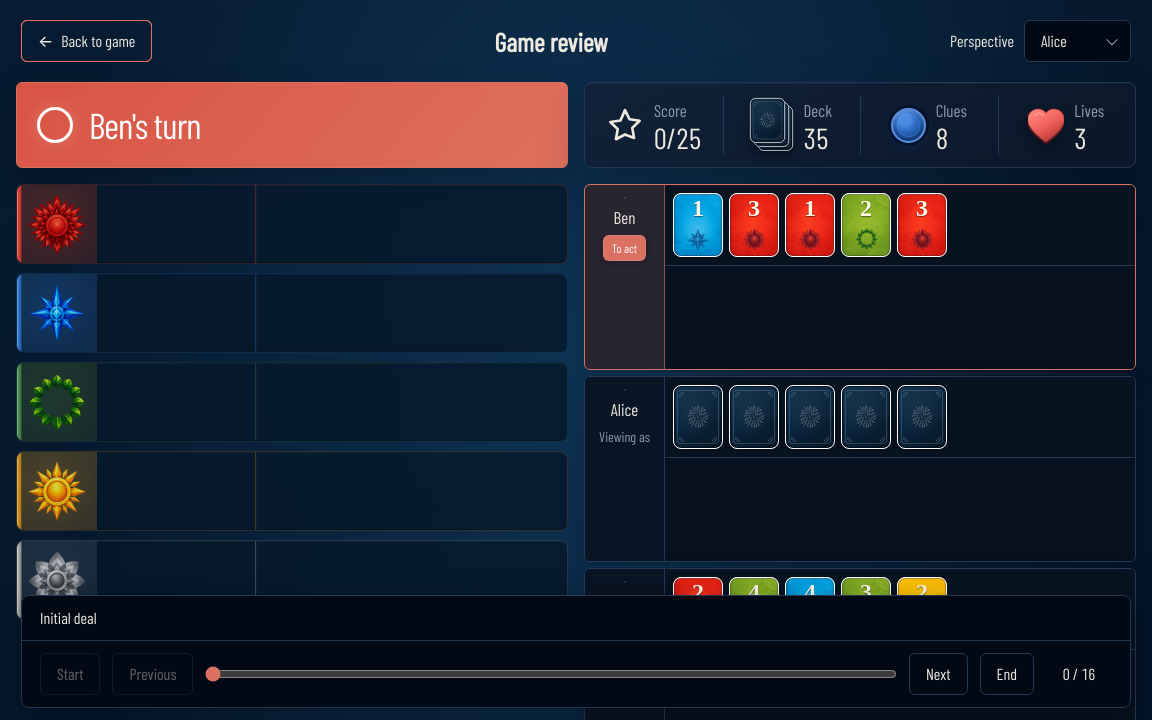
Test case: HanabiReview › adds clue knowledge at its move and removes it when rewinding
Click the button "Next". click: (938, 674)
box: [909,653,968,695]
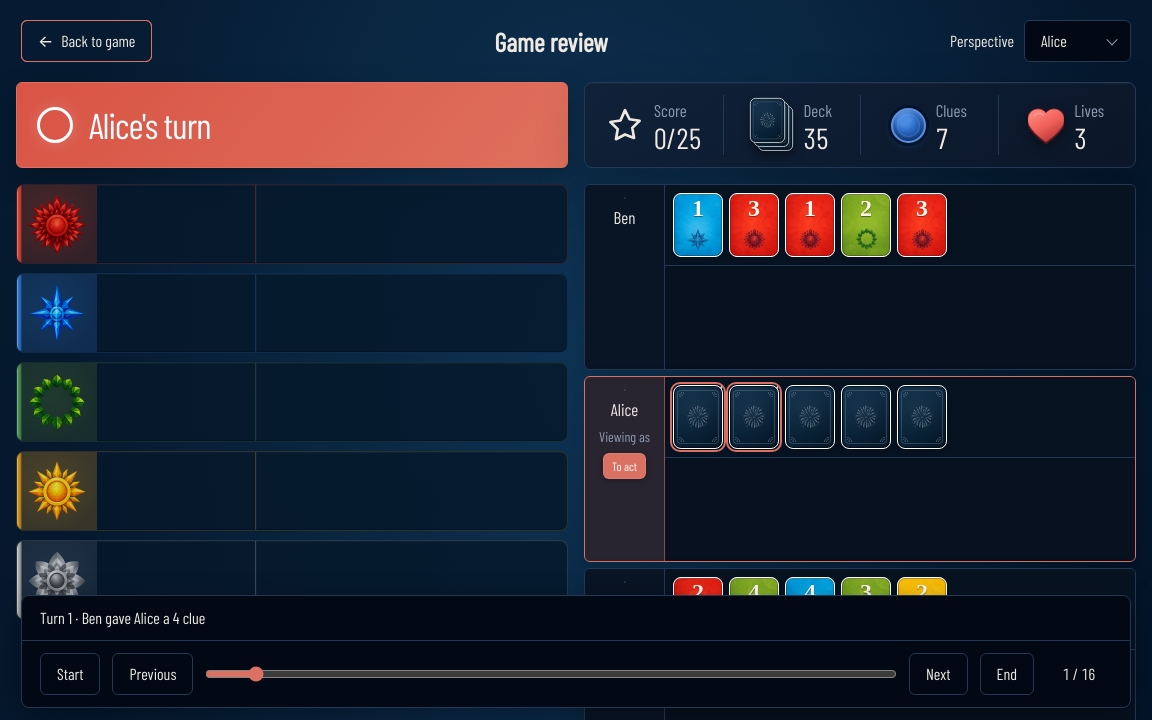
Click the button named "Alice's card 1: hidden. Number clues: 4.". click: (698, 417)
box: [673,385,723,449]
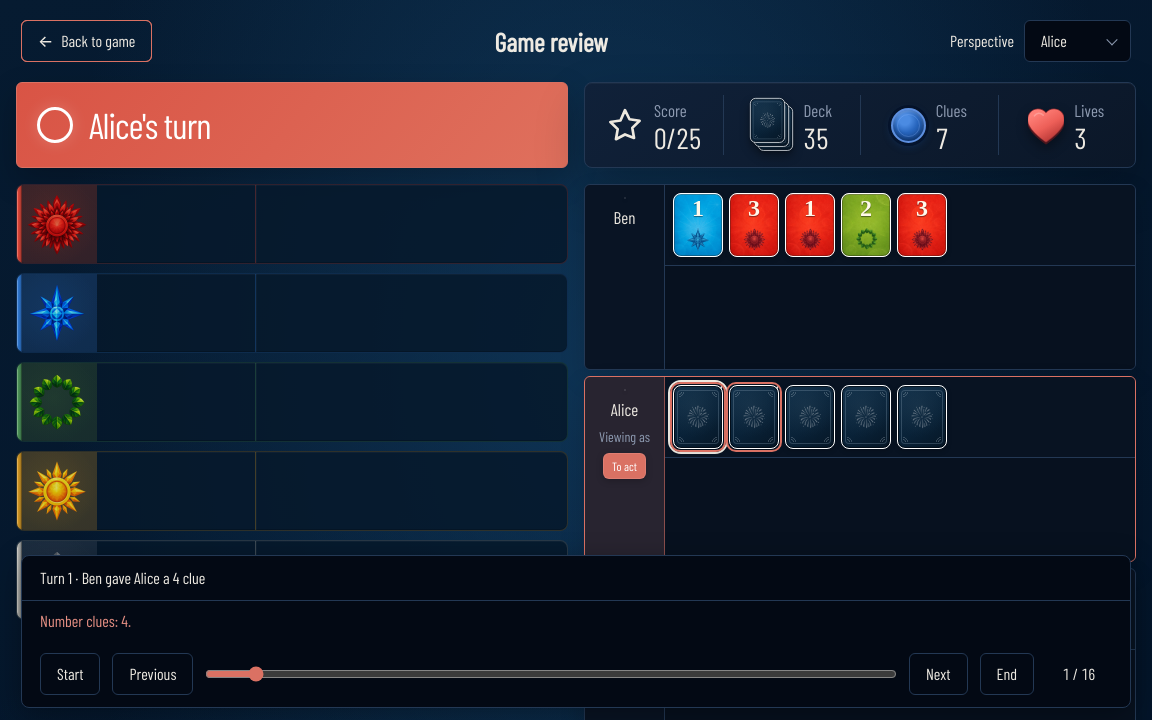
Now the message with class "hanabi-review-notes" reads "Number clues: 4.", box [40,611,131,630]
Click the button "Previous". click: (153, 674)
box: [112,653,193,695]
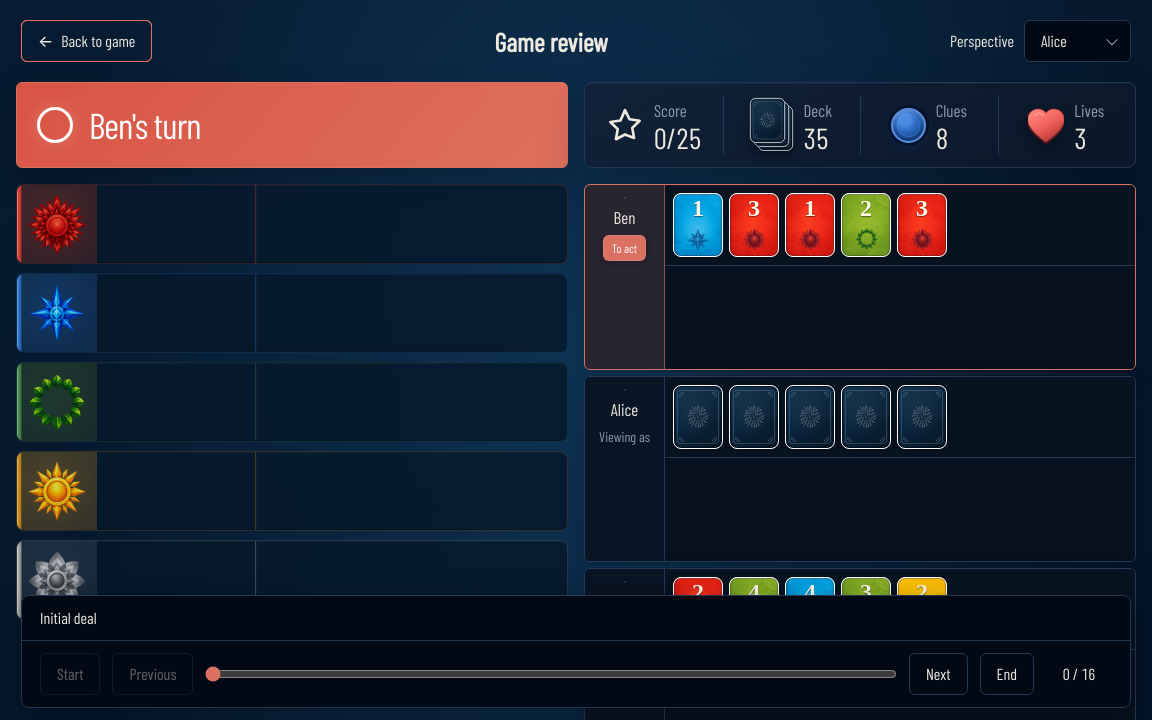
Now the message with class "hanabi-review-notes" is gone
Click the button named "Alice's card 1: hidden. No clues recorded for this card.". click: (698, 417)
box: [673,385,723,449]
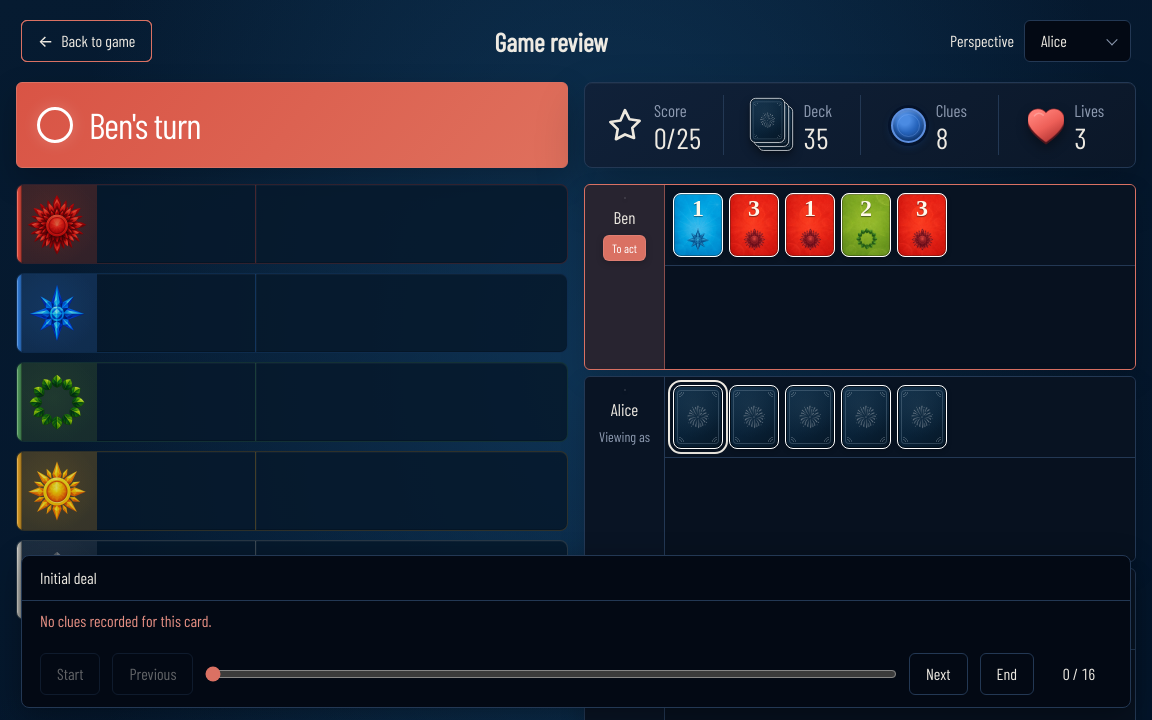
Now the message with class "hanabi-review-notes" reads "No clues recorded for this card.", box [40,611,212,630]
